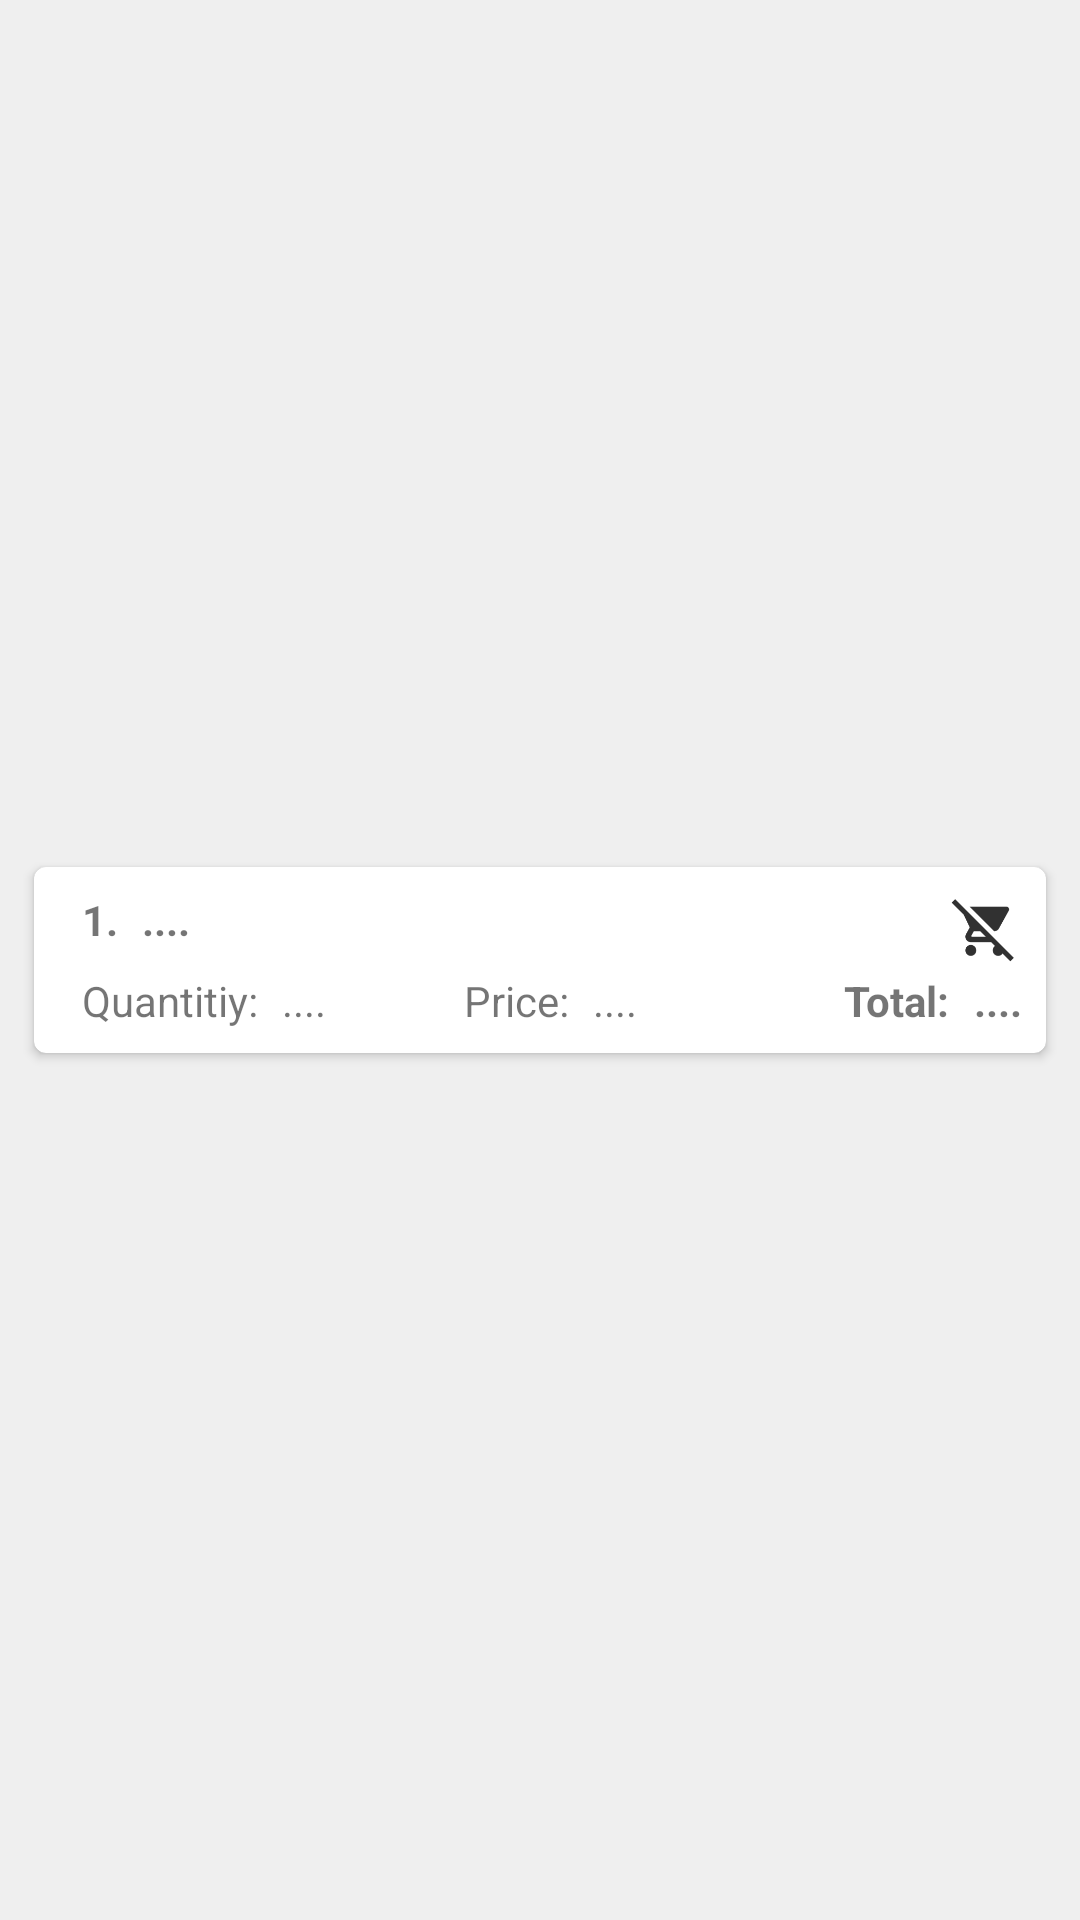

Named icons in this screenshot (1080×1920) and their bounding boxes, {"x1": x1, "y1": y1, "x2": x2, "y2": y2}:
remove cart: {"x1": 952, "y1": 899, "x2": 1014, "y2": 961}
